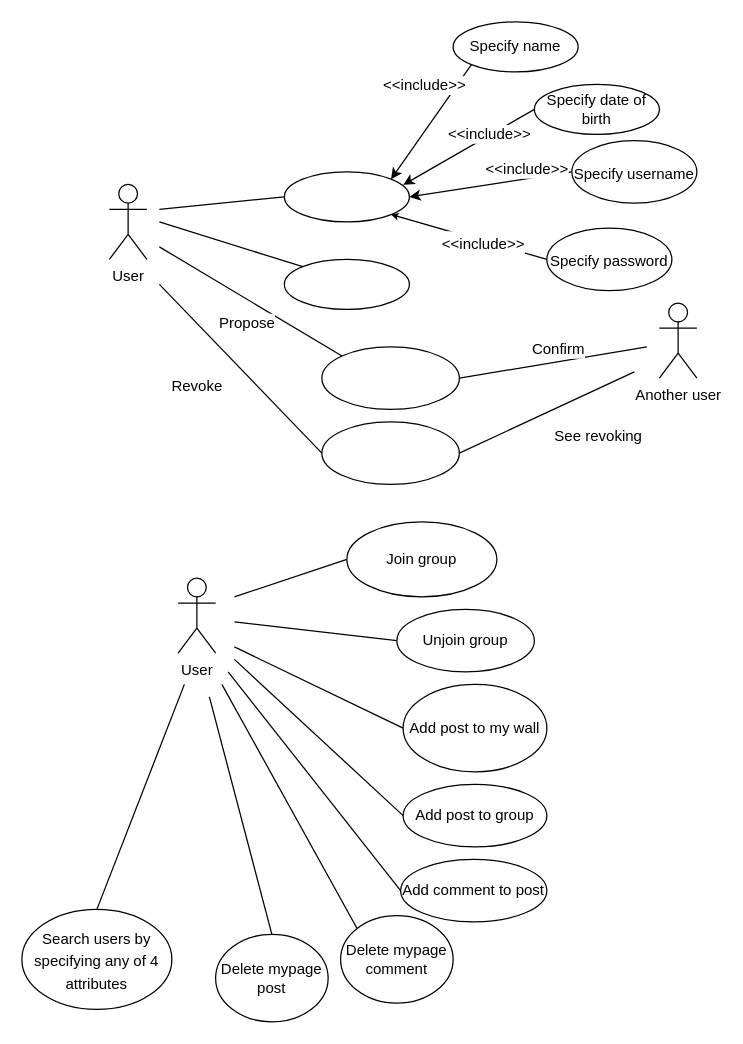
This 743x1044 diagram has some shape labels left out. The centre of each missing label's shape, as x and y in pixels:
Log-in: the point at 346,283
Make a relationship: the point at 390,377
Revoke a relationship: the point at 390,452
Sign-up: the point at 346,196
